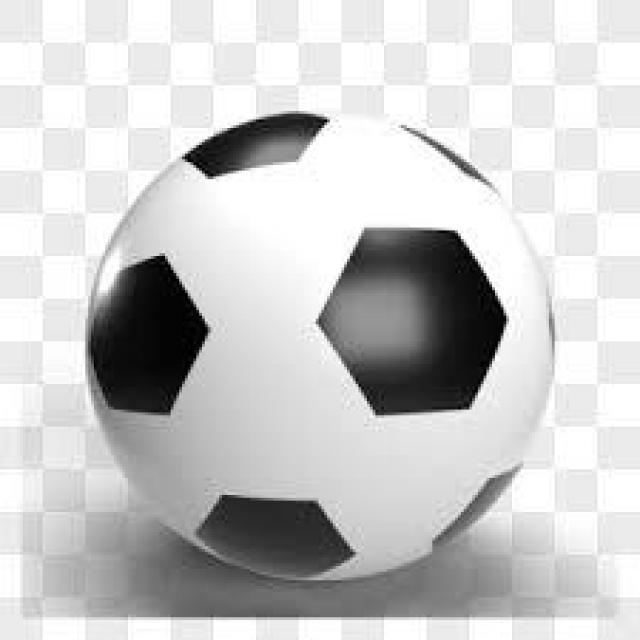Soccer Ball: (88, 114, 552, 583)
